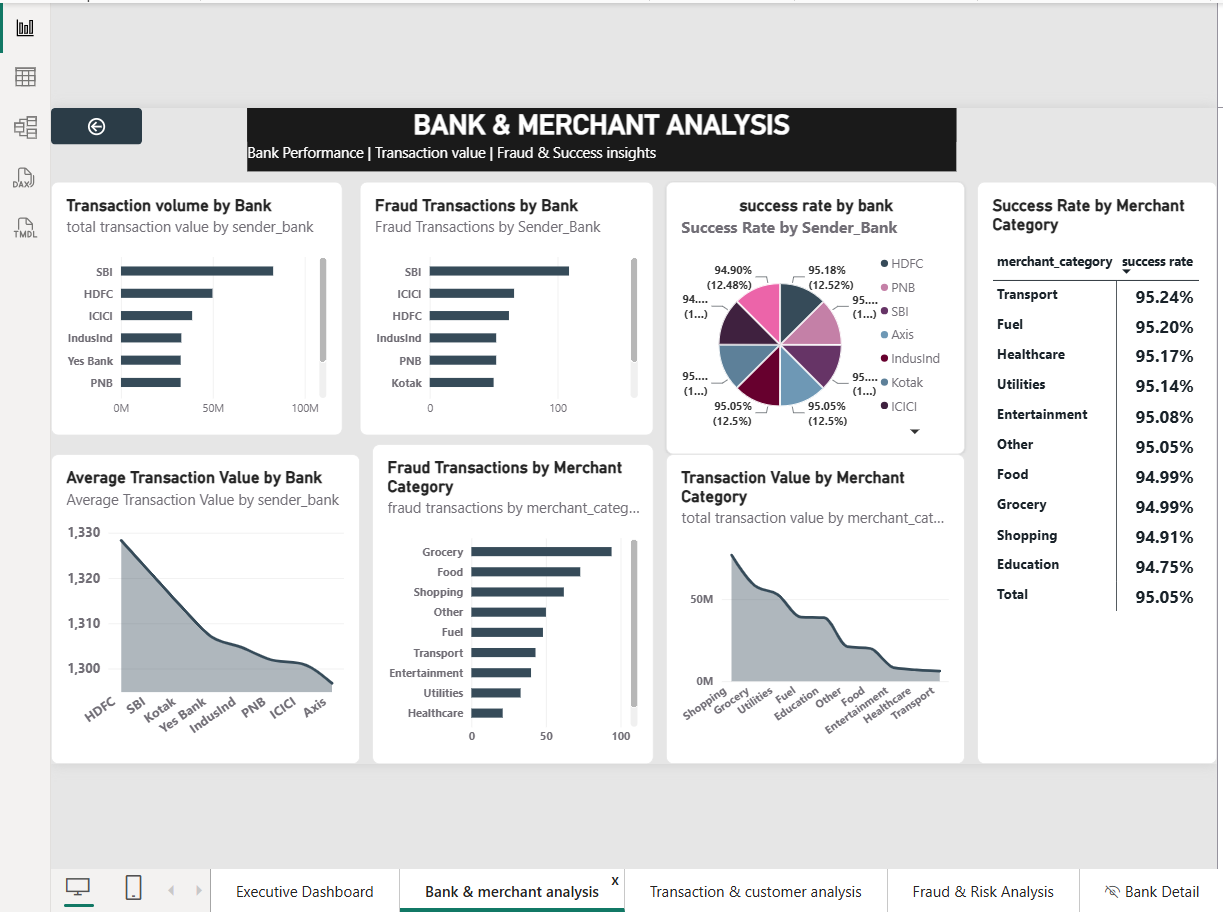

Layout of this report page (visuals, bound fields, positions):
{"tool":"powerbi","page":{"name":"Bank & merchant analysis","canvas":[1280,720],"ordinal":1},"visuals":[{"type":"clusteredBarChart","title":"Transaction volume by Bank","fields":{"Category":["upi_transactions_cleaned.sender_bank"],"Y":["upi_transactions_cleaned.total transaction value"]},"box":[0,81,319.7,278.6],"z":0},{"type":"areaChart","title":"Average Transaction Value by  Bank","fields":{"Category":["upi_transactions_cleaned.sender_bank"],"Y":["upi_transactions_cleaned.average transaction value"]},"box":[0,380.1,338.9,340.3],"z":1000},{"type":"clusteredBarChart","title":"Fraud Transactions by  Bank","fields":{"Category":["upi_transactions_cleaned.sender_bank"],"Y":["upi_transactions_cleaned.fraud transactions"]},"box":[338.9,81,322.5,278.6],"z":2000},{"type":"pieChart","title":"success rate by bank","fields":{"Category":["upi_transactions_cleaned.sender_bank"],"Y":["upi_transactions_cleaned.success rate"]},"box":[675.1,81,328,299.1],"z":3000},{"type":"areaChart","title":" Transaction Value by Merchant Category","fields":{"Category":["upi_transactions_cleaned.merchant_category"],"Y":["upi_transactions_cleaned.total transaction value"]},"box":[675.1,380.1,328,340.3],"z":4000},{"type":"clusteredBarChart","title":"Fraud Transactions by Merchant Category","fields":{"Category":["upi_transactions_cleaned.merchant_category"],"Y":["upi_transactions_cleaned.fraud transactions"]},"box":[352.7,369.1,308.7,351.3],"z":5000},{"type":"pivotTable","title":"Success Rate by Merchant Category","fields":{"Rows":["upi_transactions_cleaned.merchant_category"],"Values":["upi_transactions_cleaned.success rate"]},"box":[1016.8,81,263.5,639.5],"z":6000},{"type":"shape","title":"BANK & MERCHANT ANALYSIS","box":[215.4,0,778,70],"z":7000},{"type":"actionButton","box":[0,0,100,40],"z":8000}]}

Visuals, with their boxes on the page's 1280x720 design canvas (x1, y1, x2, y2). These are canvas units, not pixel positions in the 1223x912 screenshot, which may show the page scaled, cropped or inside an application window:
"Transaction volume by Bank" clusteredBarChart: <box>0,81,320,360</box>
"Average Transaction Value by  Bank" areaChart: <box>0,380,339,720</box>
"Fraud Transactions by  Bank" clusteredBarChart: <box>339,81,661,360</box>
"success rate by bank" pieChart: <box>675,81,1003,380</box>
" Transaction Value by Merchant Category" areaChart: <box>675,380,1003,720</box>
"Fraud Transactions by Merchant Category" clusteredBarChart: <box>353,369,661,720</box>
"Success Rate by Merchant Category" pivotTable: <box>1017,81,1280,720</box>
"BANK & MERCHANT ANALYSIS" shape: <box>215,0,993,70</box>
actionButton: <box>0,0,100,40</box>
